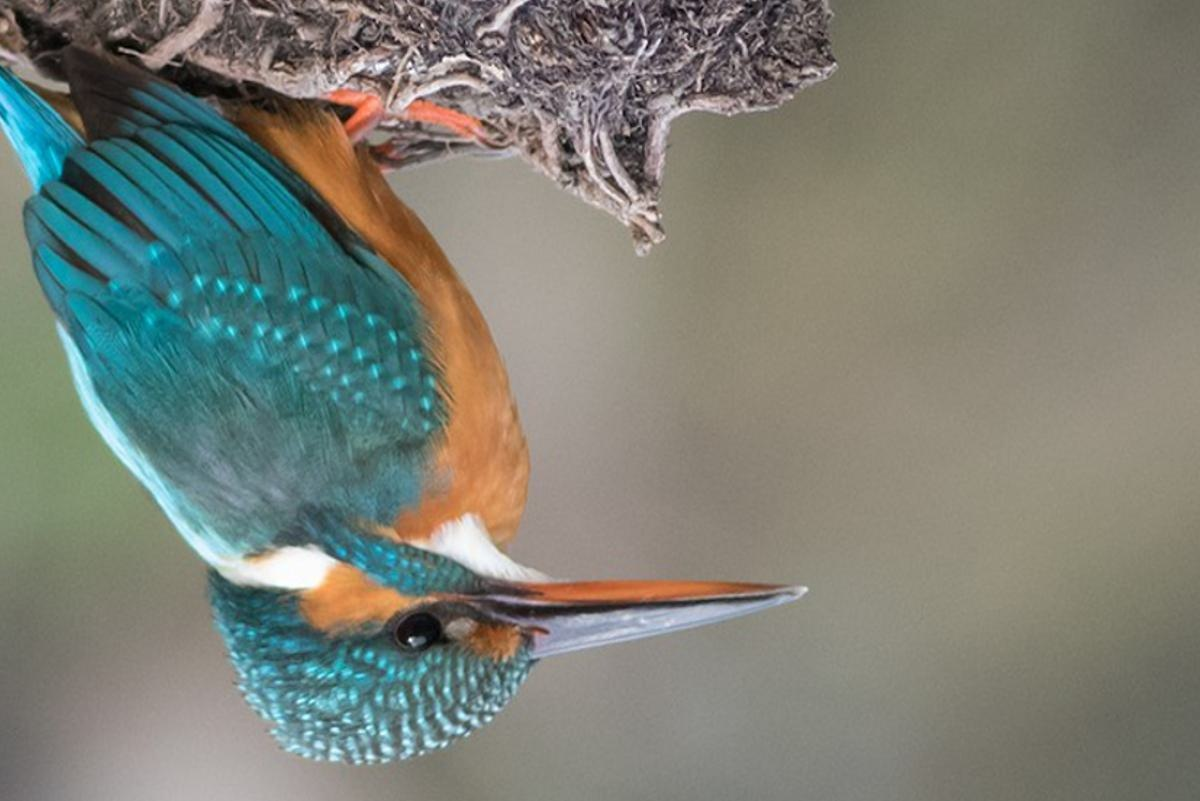kingfisher: (1, 1, 818, 774)
